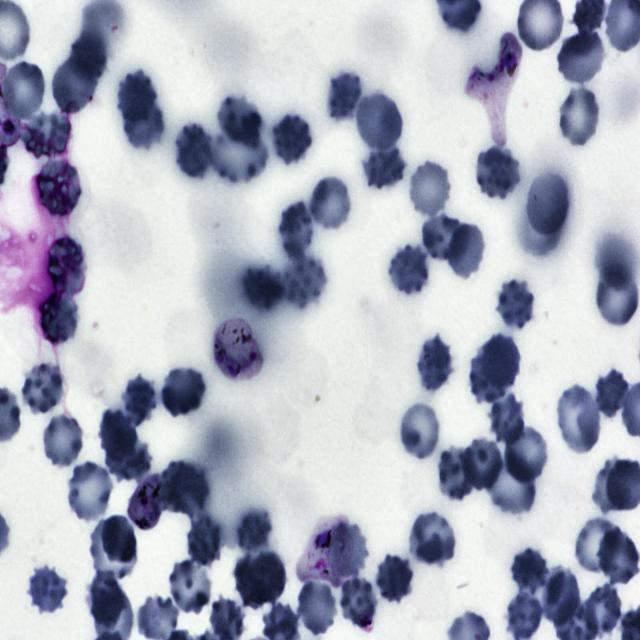red blood cell: (210, 127, 268, 184), (484, 453, 536, 514), (90, 518, 138, 583), (0, 61, 46, 124), (557, 386, 600, 452), (355, 94, 403, 150), (52, 57, 99, 113), (504, 425, 548, 484), (159, 365, 207, 419), (162, 461, 208, 517), (597, 526, 639, 587), (68, 462, 112, 520), (528, 172, 569, 234), (575, 518, 622, 572), (21, 110, 71, 160), (408, 513, 455, 566), (557, 30, 604, 82), (38, 160, 80, 218), (596, 268, 638, 326), (281, 255, 326, 308), (296, 578, 337, 636), (596, 232, 637, 290), (560, 87, 600, 146), (218, 96, 263, 148), (98, 408, 139, 464), (409, 162, 451, 216), (169, 560, 211, 614), (462, 436, 503, 491), (86, 572, 127, 626), (400, 403, 440, 458), (476, 148, 520, 198), (50, 237, 86, 298), (175, 122, 214, 178), (246, 550, 287, 603), (593, 456, 631, 513), (422, 215, 468, 262), (26, 565, 69, 615), (184, 512, 223, 567), (438, 447, 476, 502), (582, 584, 622, 636), (331, 522, 368, 578), (104, 438, 150, 483), (479, 336, 518, 389), (310, 177, 350, 228), (280, 202, 314, 262), (124, 98, 164, 149), (418, 334, 453, 392), (43, 414, 82, 466), (362, 144, 407, 189), (542, 570, 580, 623), (40, 290, 77, 344), (488, 394, 526, 446), (118, 69, 156, 121), (22, 364, 63, 412), (448, 224, 484, 278), (242, 267, 285, 312), (136, 595, 179, 640), (469, 353, 506, 404), (232, 555, 266, 610), (389, 245, 427, 294), (341, 578, 377, 628), (376, 555, 414, 602), (70, 33, 108, 80), (497, 280, 534, 328), (274, 114, 311, 162), (506, 593, 543, 640), (121, 376, 157, 424), (596, 368, 630, 418), (102, 514, 136, 562), (328, 71, 361, 120), (512, 549, 548, 593), (235, 510, 271, 553)
trophozoite: (466, 33, 522, 144), (295, 514, 353, 586), (212, 313, 264, 382), (126, 474, 165, 532)
